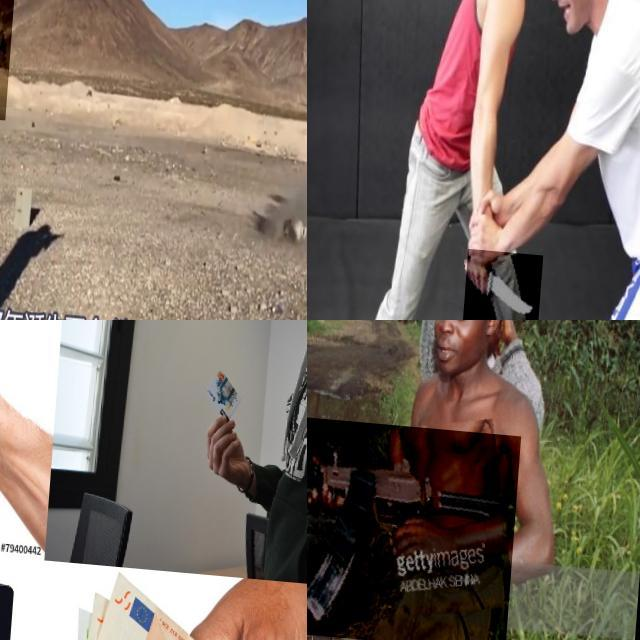-: (469, 243, 548, 320)
gun-knife-thesis - v11 Yolov5 augmented: (307, 403, 525, 640), (0, 0, 61, 116)
